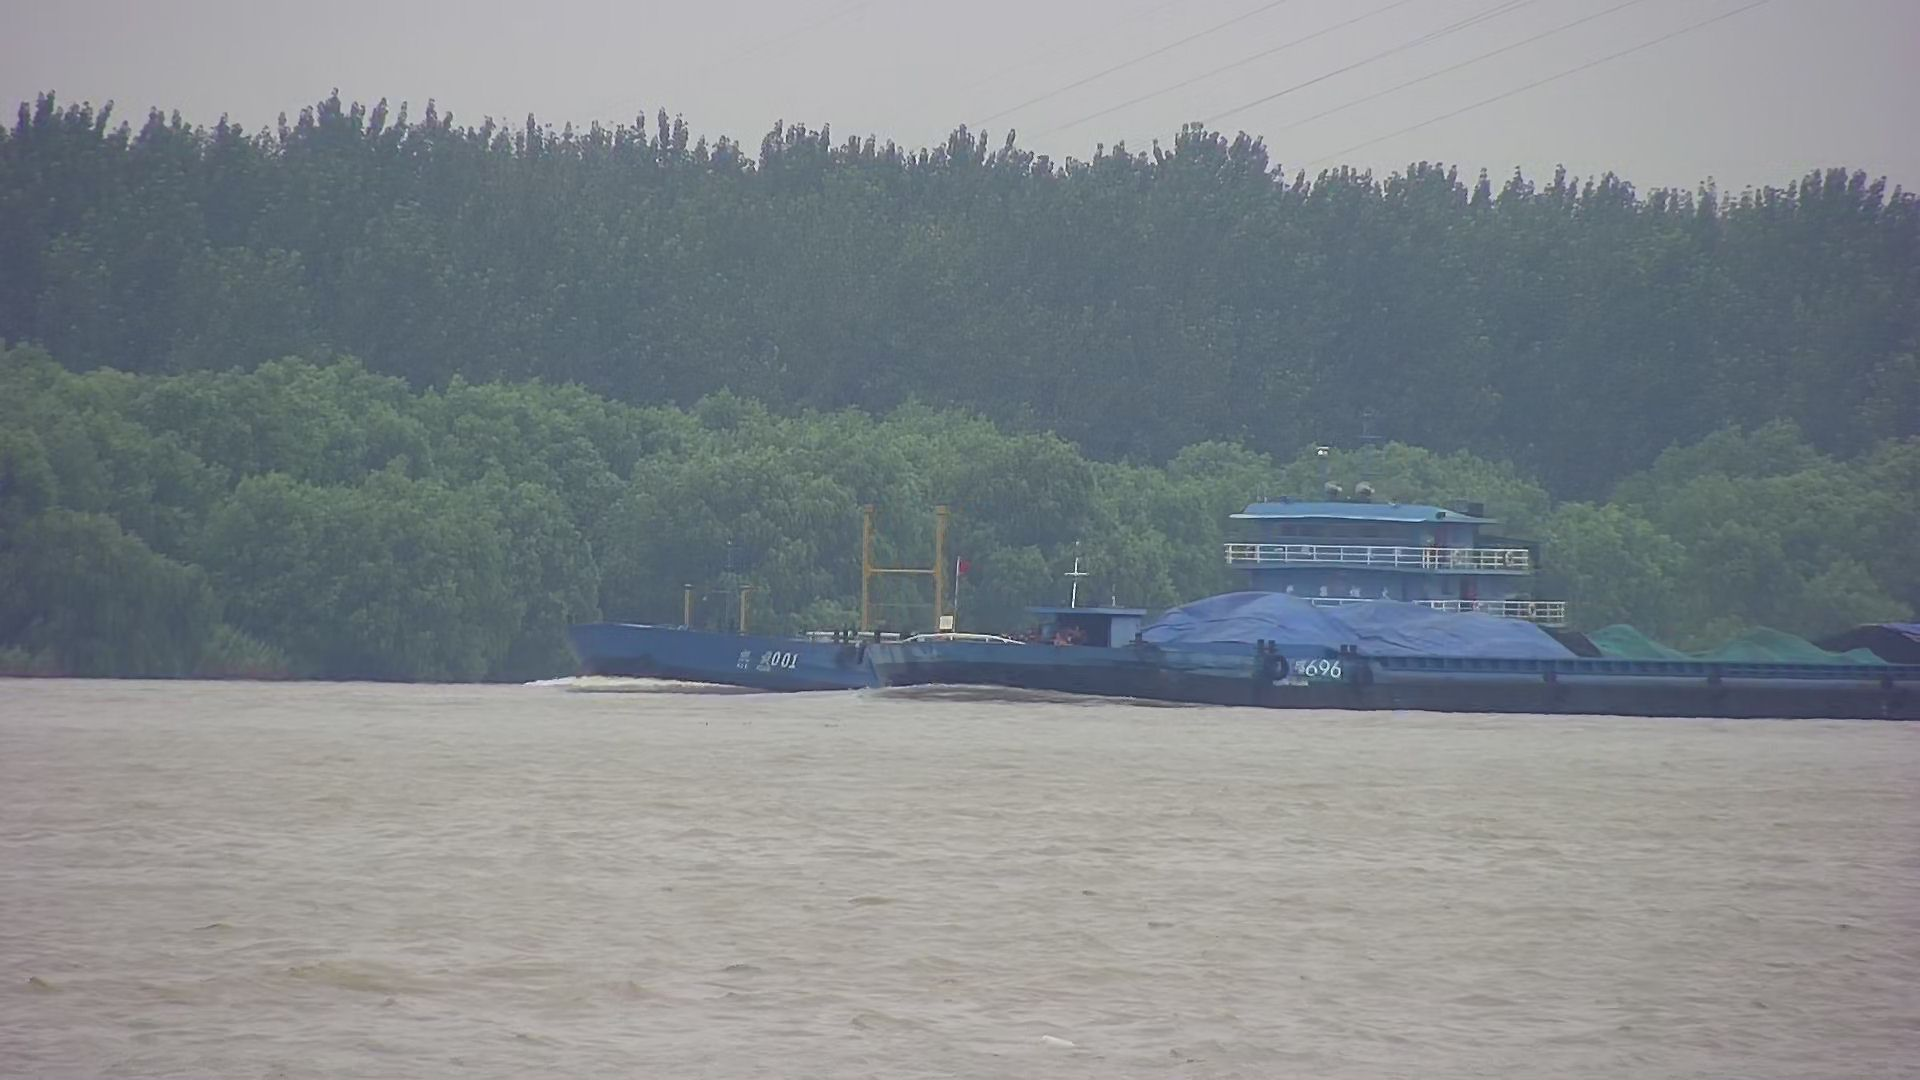ship: (572, 460, 1586, 715), (853, 541, 1920, 731)
